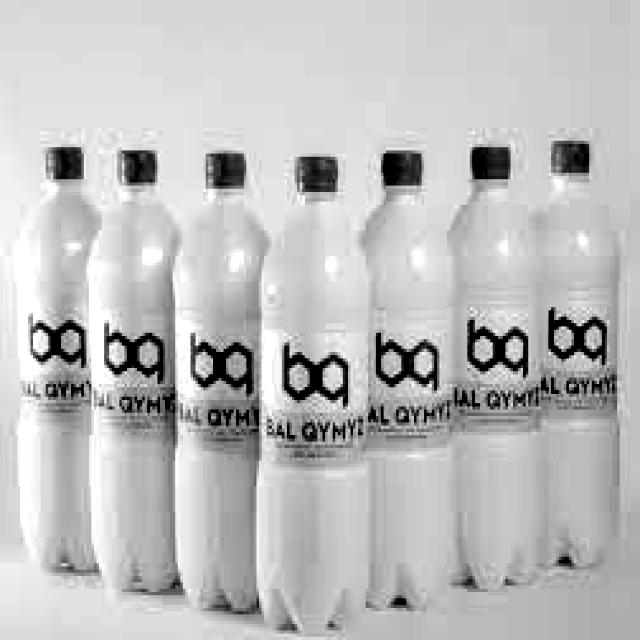balqymyz: (264, 336, 367, 456), (179, 331, 263, 443), (456, 317, 542, 426), (371, 329, 452, 442), (90, 321, 177, 425), (16, 310, 91, 423), (547, 308, 617, 408)
